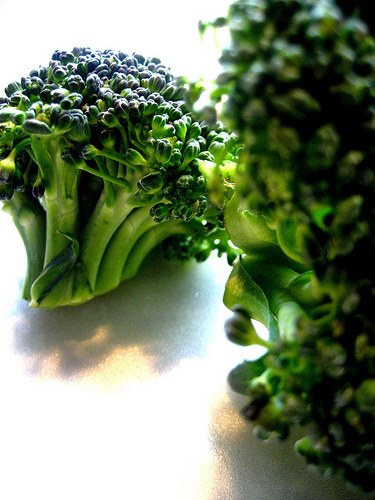broccoli: (197, 5, 373, 496), (0, 47, 225, 311)
